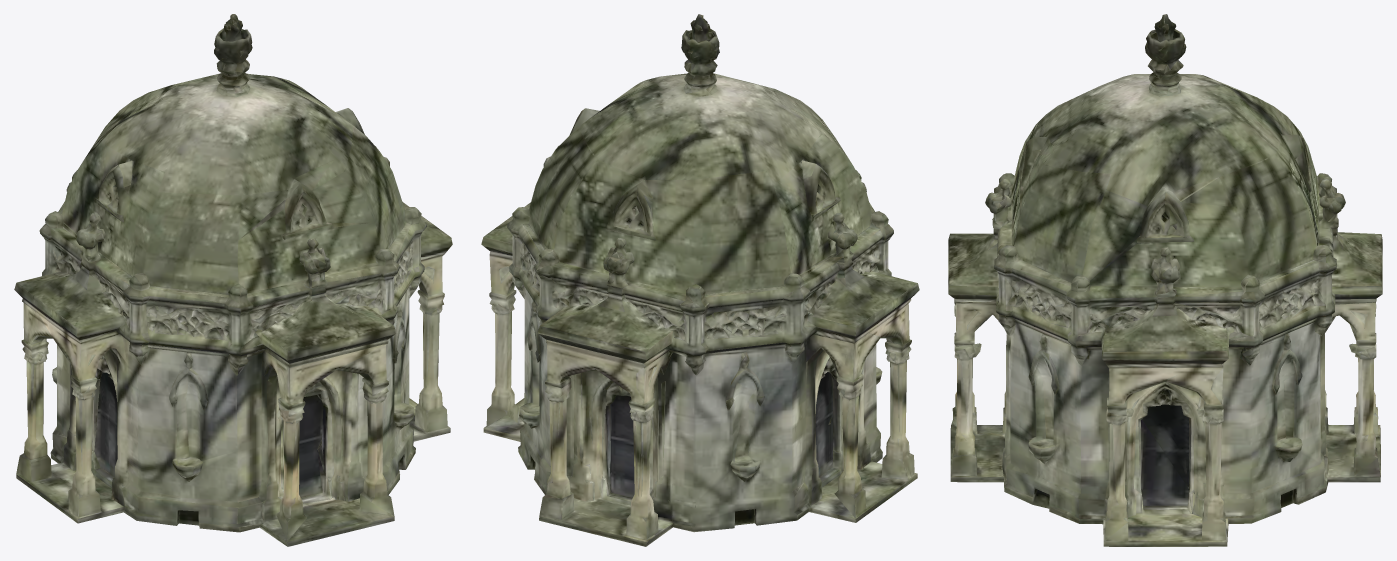
File: mausoleum.glb
3 views of the same model, side by side, from view 1: azimuth 30°, elevation 25°; view 2: azimuth 150°, elevation 25°; view 3: azimuth 270°, elevation 25° (orthographic).
Visible parts, largest first — view 1: Mesh_0; view 2: Mesh_0; view 3: Mesh_0.
Boxes of the visible parts, x1,y1,x2,y2 form: Mesh_0: (14, 14, 452, 546); Mesh_0: (481, 14, 919, 546); Mesh_0: (948, 14, 1382, 546).
Size of the model in its own units: 1.7 by 1.91 by 1.7.
Materials: 1 (1 with a texture image).
